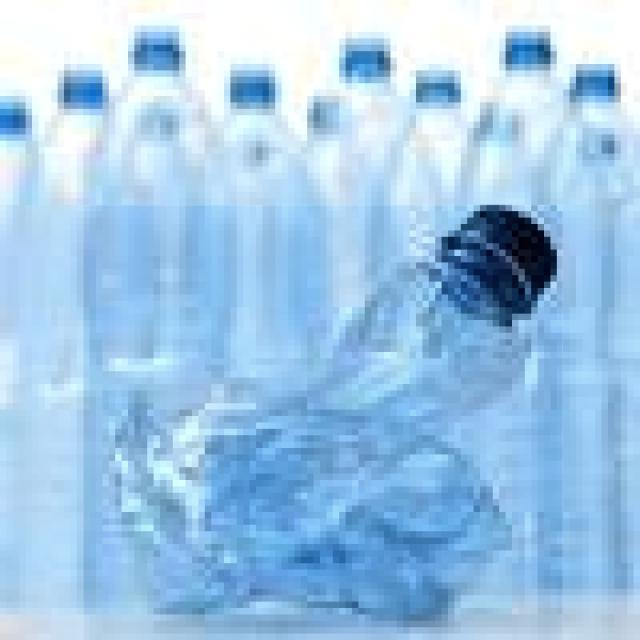BIODEGRADABLE: (84, 206, 562, 640)
